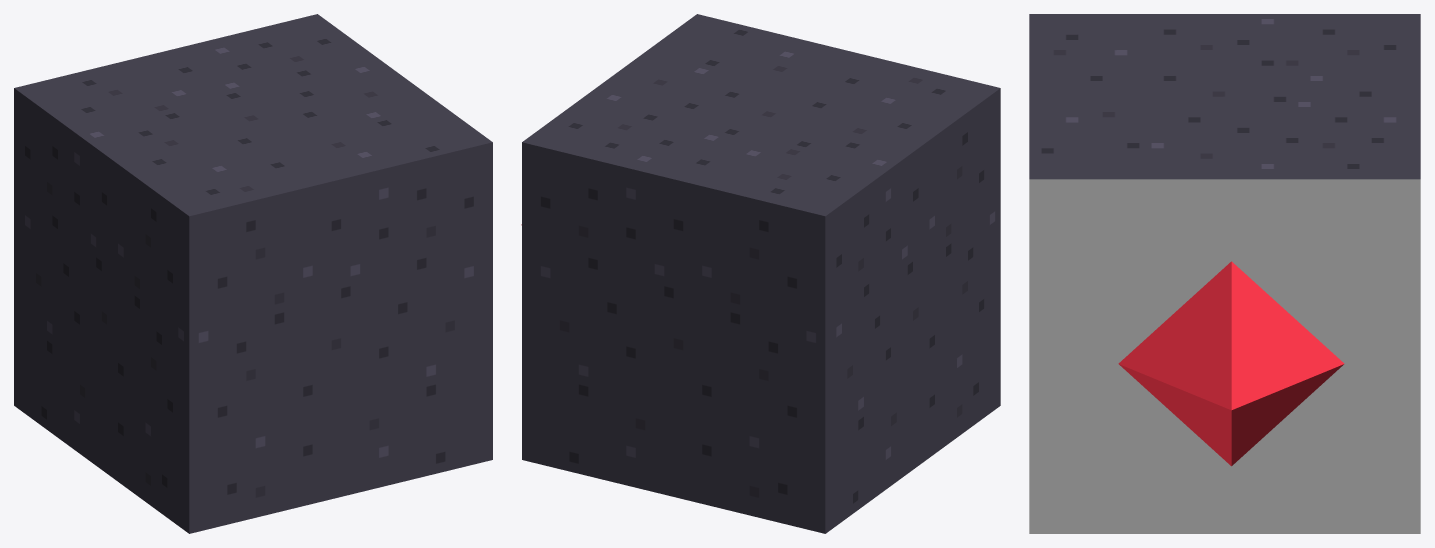
File: finalOre.fbx
3 views of the same model, side by side, from view 1: azimuth 30°, elevation 25°; view 2: azimuth 150°, elevation 25°; view 3: azimuth 270°, elevation 25° (orthographic). The views are drawn at different scales.
Parts seen in each view (by area): view 1: Stone 3.002; view 2: Stone 3.002; view 3: Stone 3.002.
Boxes of the visible parts, x1,y1,x2,y2 form: Stone 3.002: (14, 14, 492, 533); Stone 3.002: (521, 14, 1000, 533); Stone 3.002: (1029, 14, 1420, 533).
Bounding box in the file's own units: 256 × 200 × 200.
